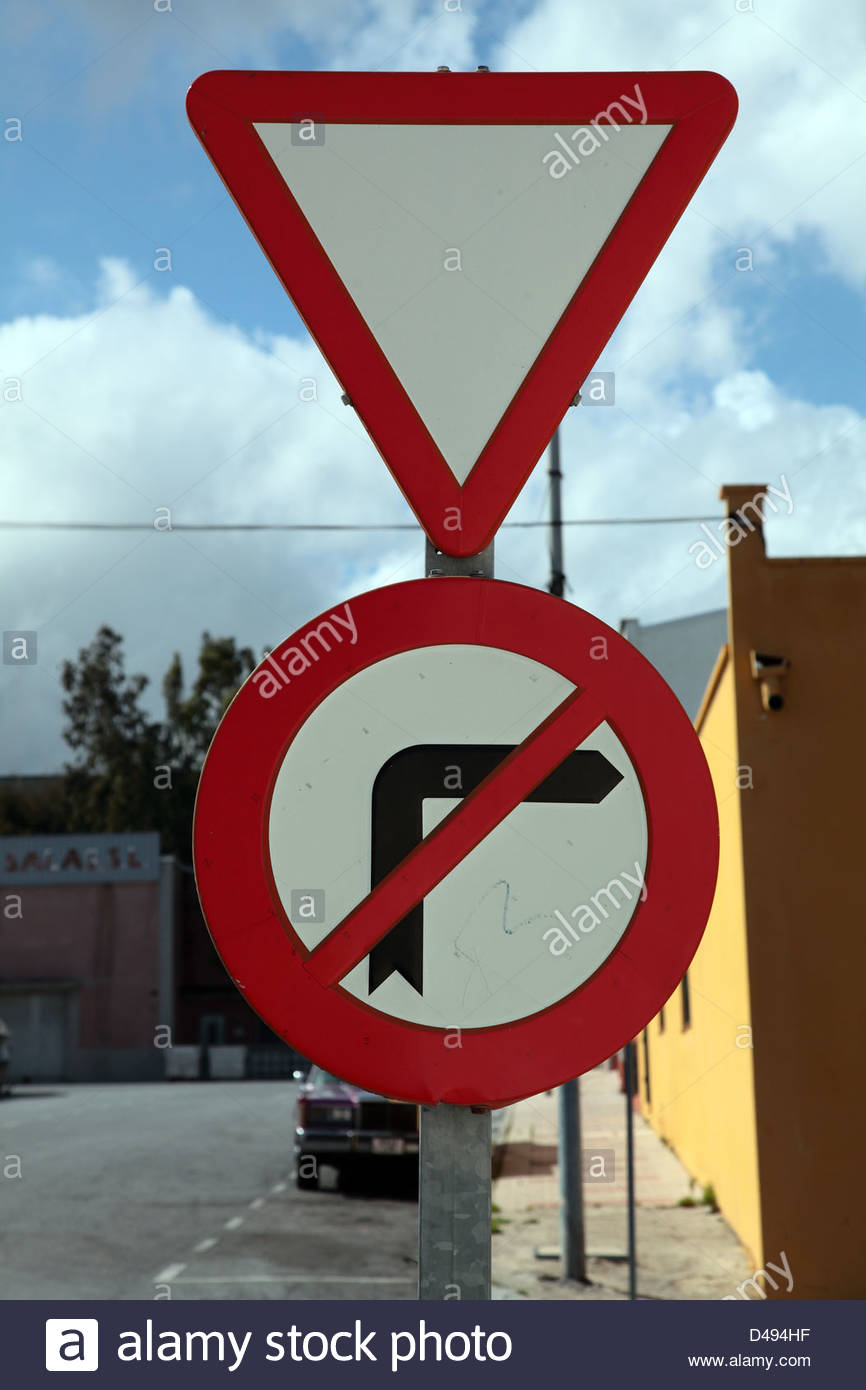No_right_turn: (189, 579, 719, 1105)
